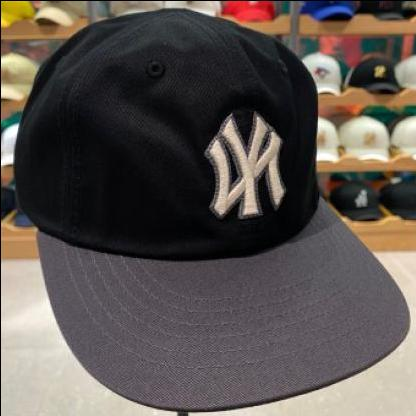cap: (14, 6, 414, 410)
